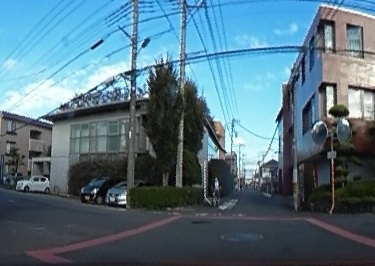person: (212, 175, 220, 204)
